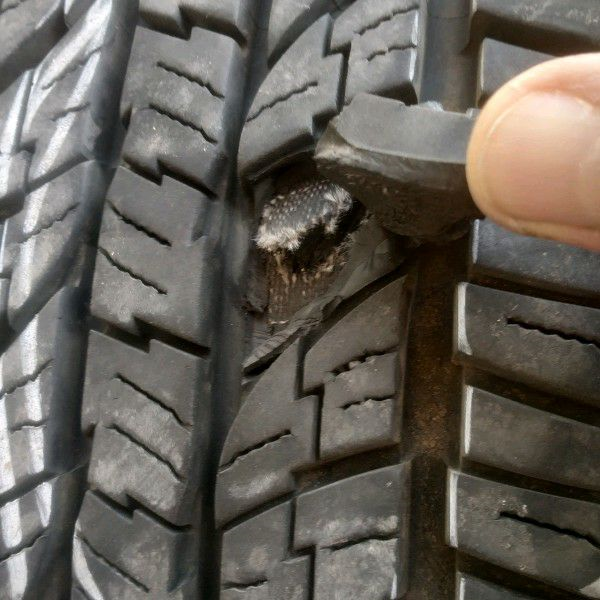tr: (229, 188, 375, 324)
